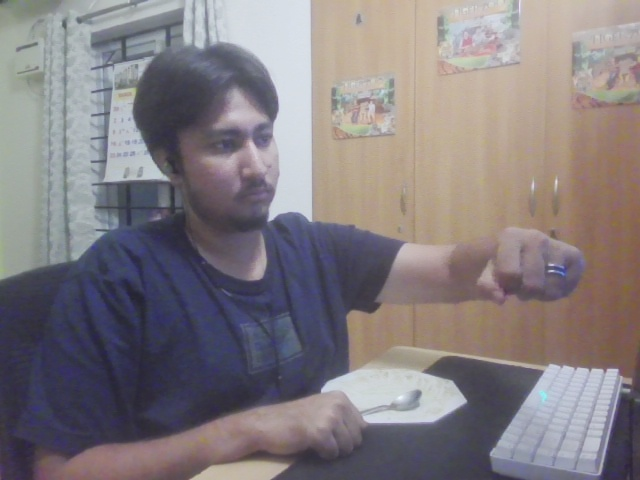yes: (474, 225, 588, 319)
